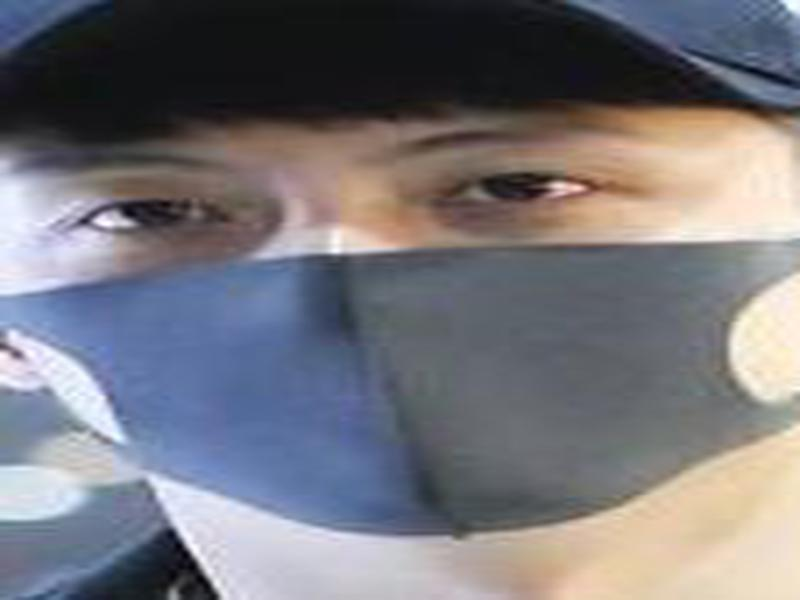with_mask: (1, 8, 793, 553)
